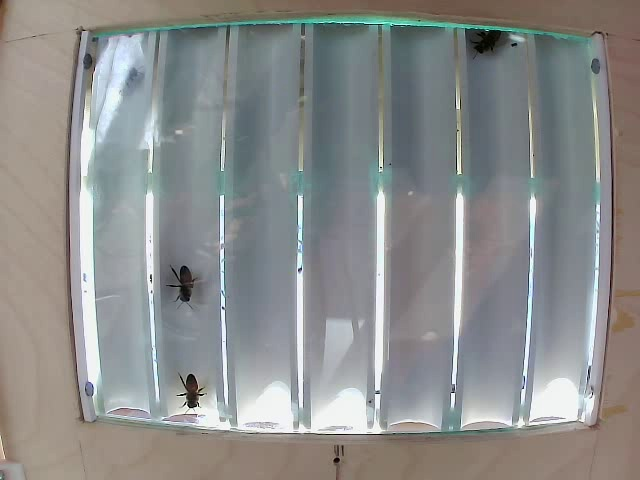bee: (168, 261, 202, 309), (178, 373, 204, 407)
